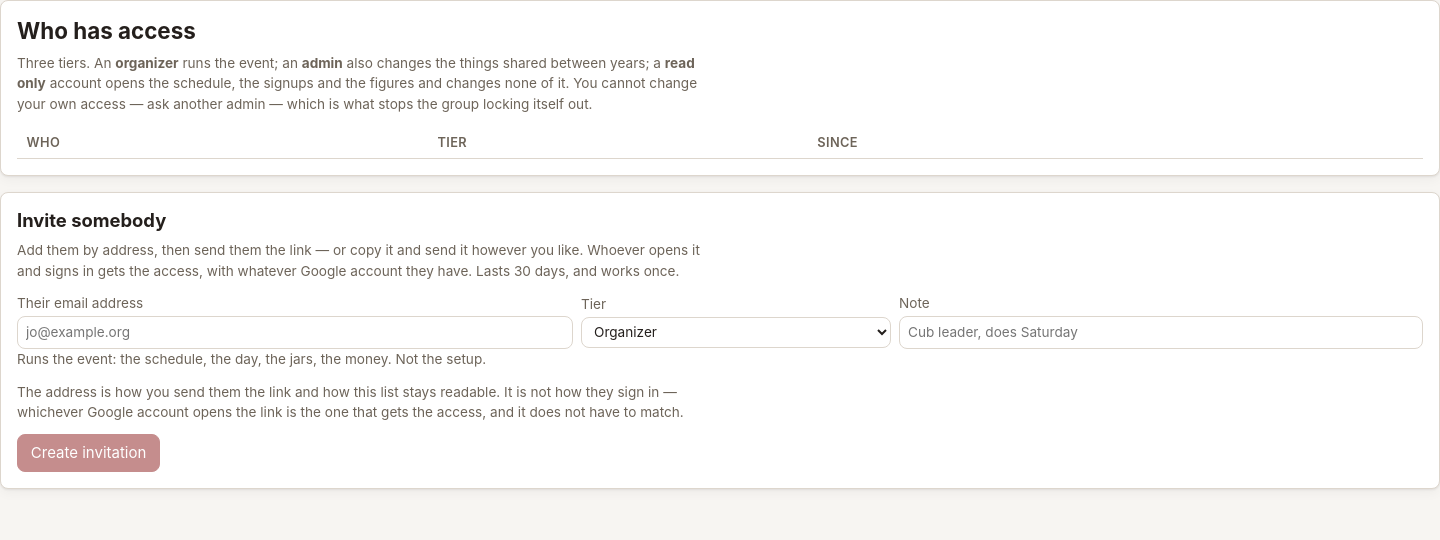
Test: making one › will not create one for something that is not an address
Type "Jo from Cubs" into the field labelled "Their email address" at (295, 332), box 17,316 -> 573,349
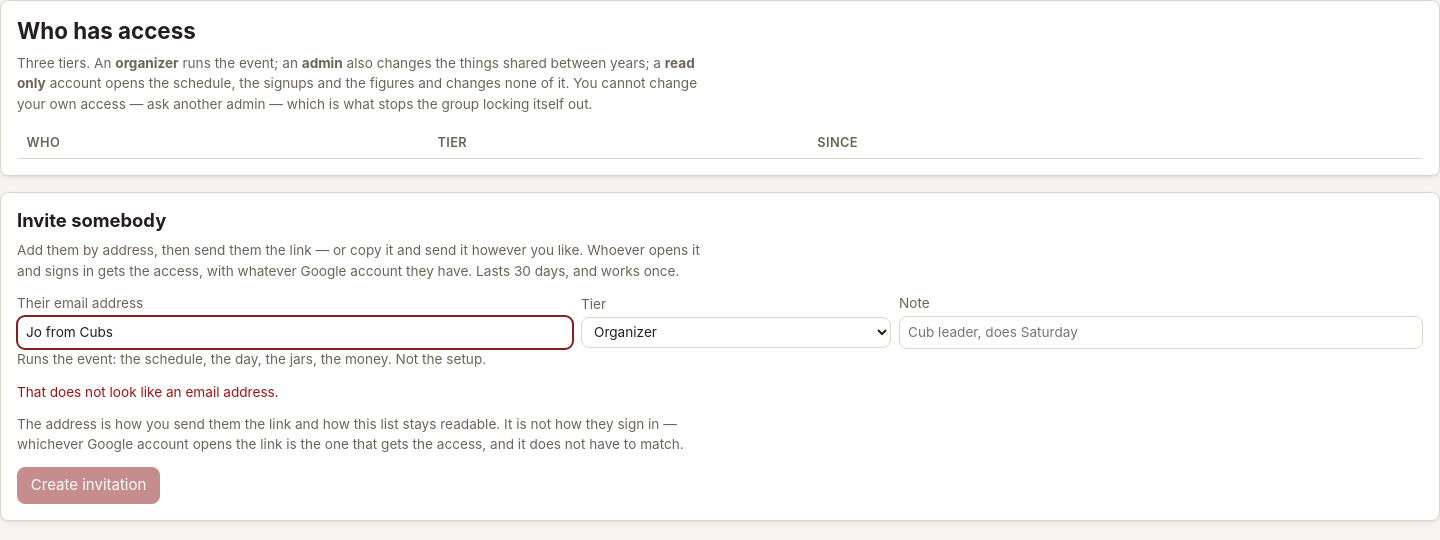
Expected: the button "Create invitation" is disabled, 17,467 -> 160,504
Result: the text "That does not look like an email address." is shown at 17,384 -> 279,400
